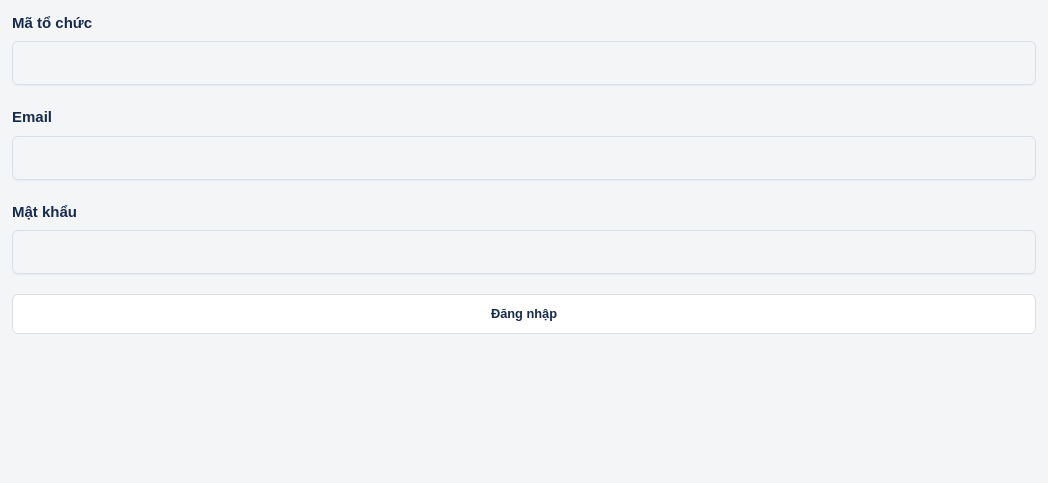
Test: validates required inputs and retains fields after an incorrect login with support ID
This screenshot has width=1048, height=483.
Click the button "Đăng nhập" at [524, 314], box [12, 294, 1036, 334]
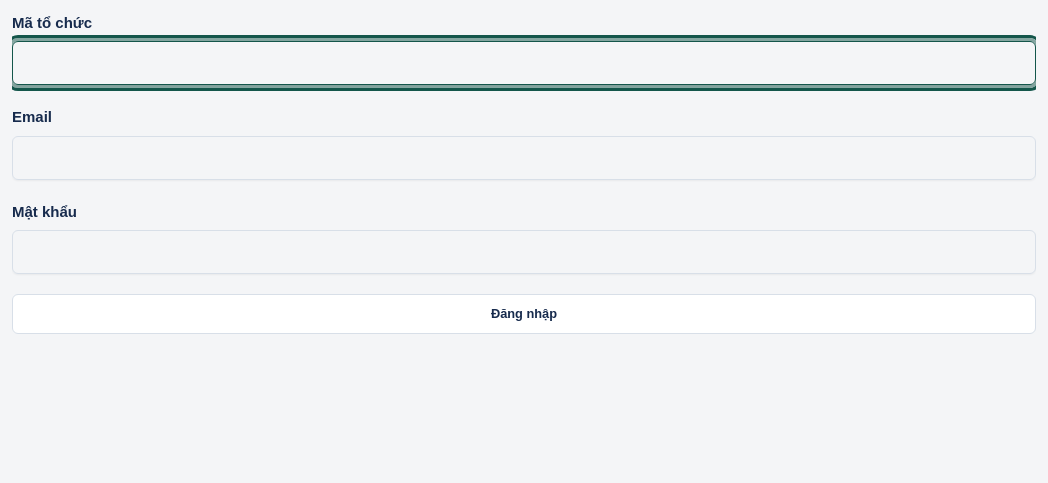
Type "NEXUS" into the field labelled "Mã tổ chức" at [524, 63], box [12, 41, 1036, 85]
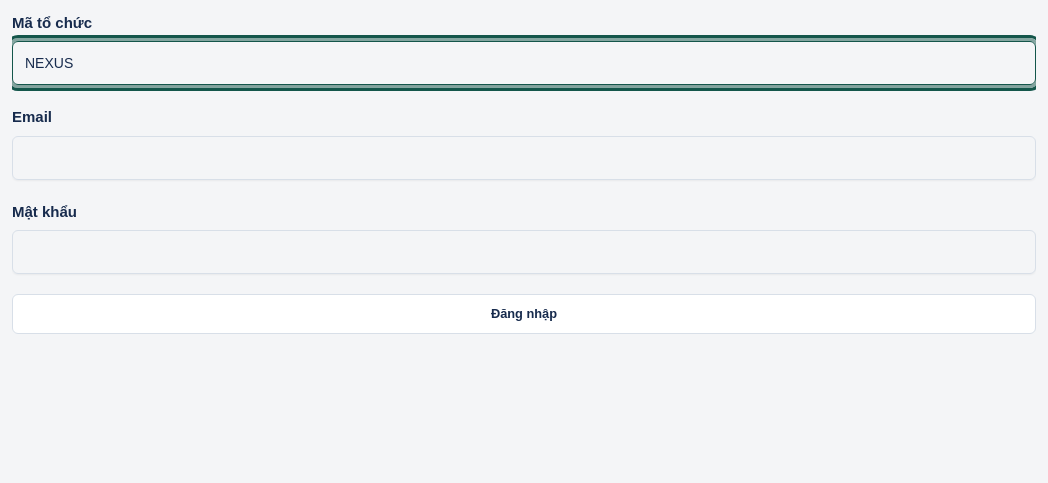
Type "owner@example.test" into the field labelled "Email" at [524, 158], box [12, 136, 1036, 180]
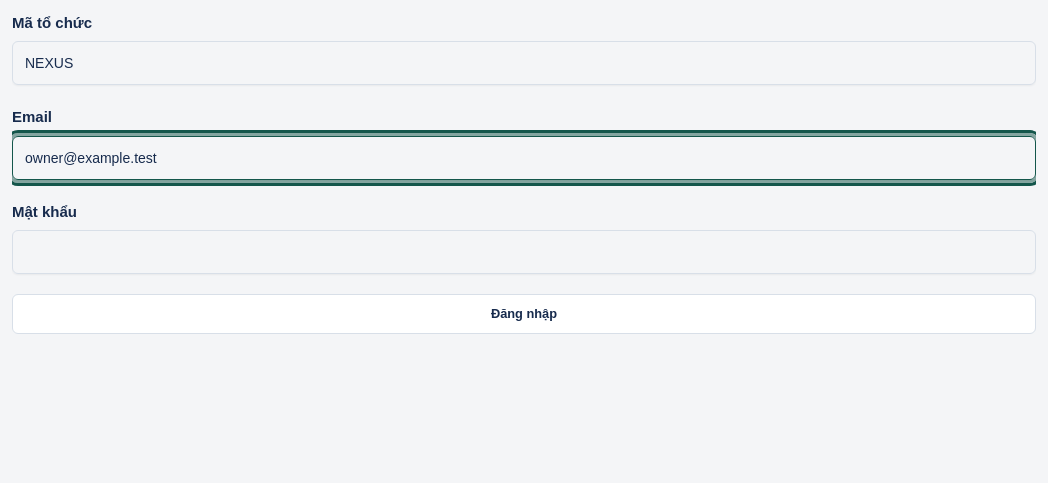
Type "temporary-password" into the password field labelled "Mật khẩu" at [524, 252], box [12, 230, 1036, 274]
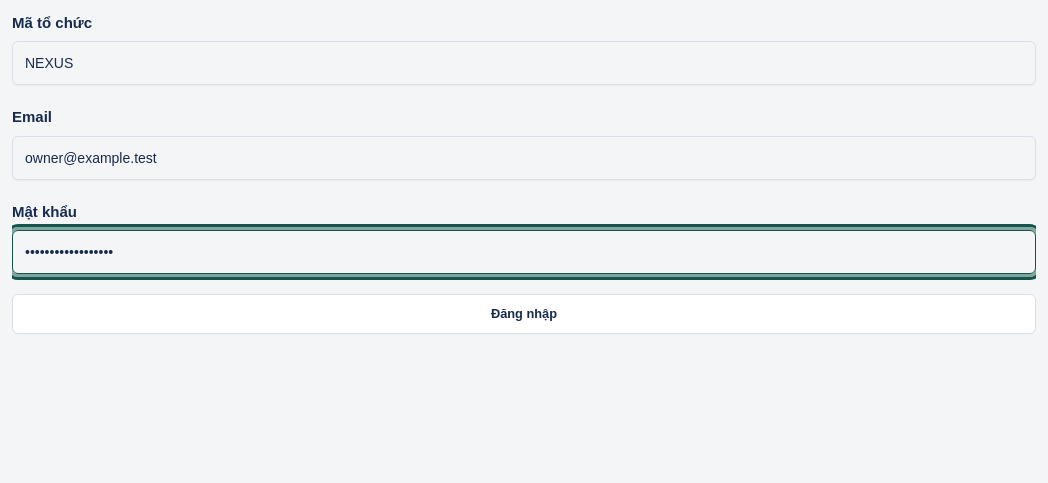
Click the button "Đăng nhập" at [524, 314], box [12, 294, 1036, 334]
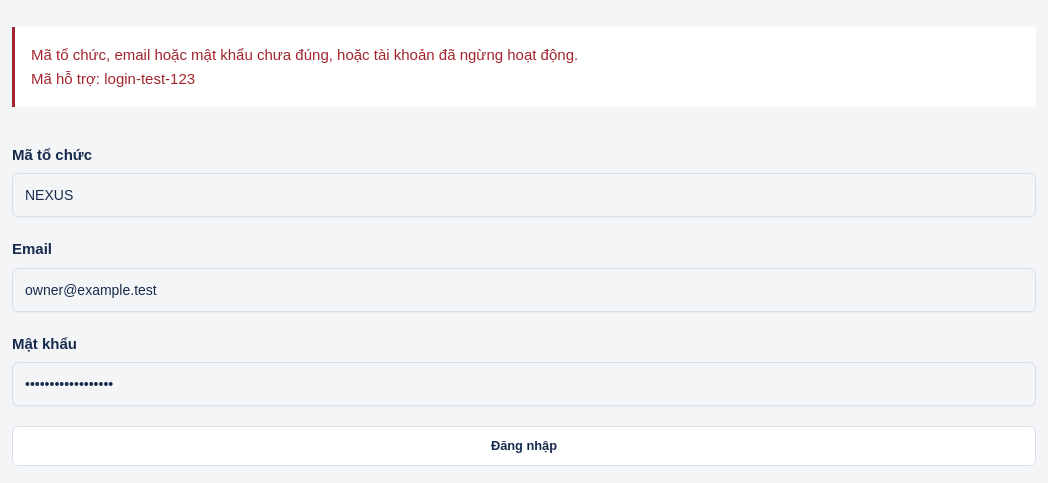
Now the message shows "login-test-123", box [104, 70, 195, 87]
